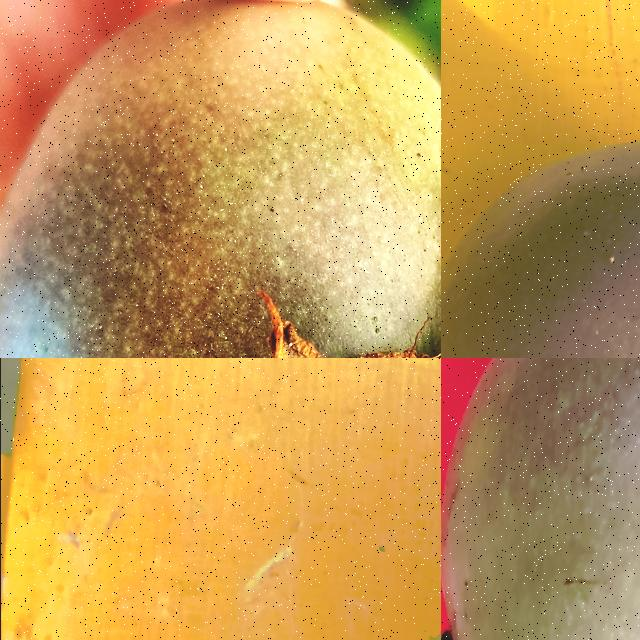Estado-2: (0, 1, 441, 358)
Estado-3: (441, 358, 640, 640)
Estado-4: (441, 144, 640, 358)
